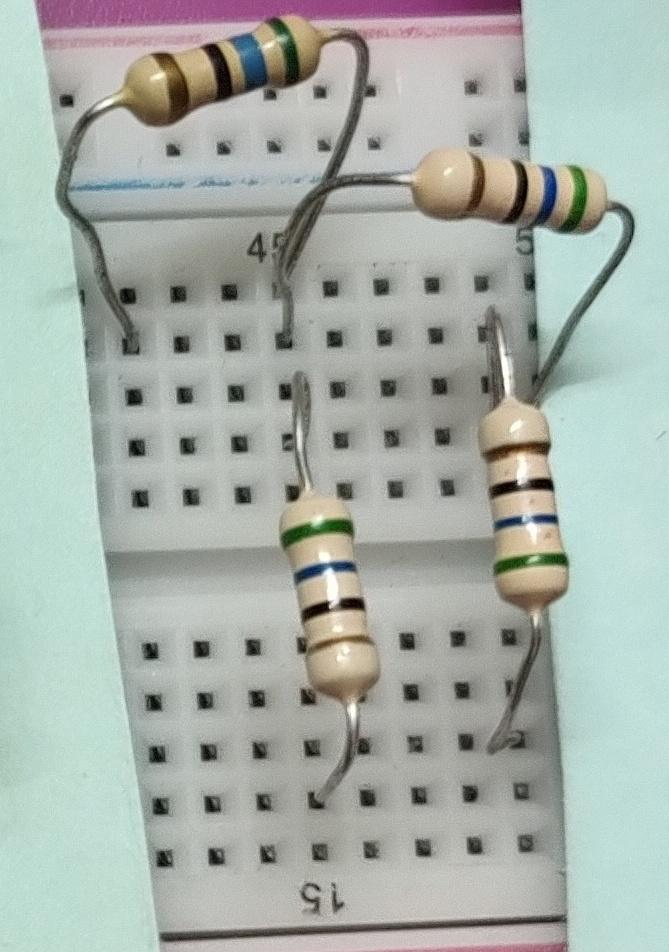resistor: (263, 471, 400, 713), (105, 5, 345, 143), (465, 395, 597, 622), (401, 133, 612, 275)
